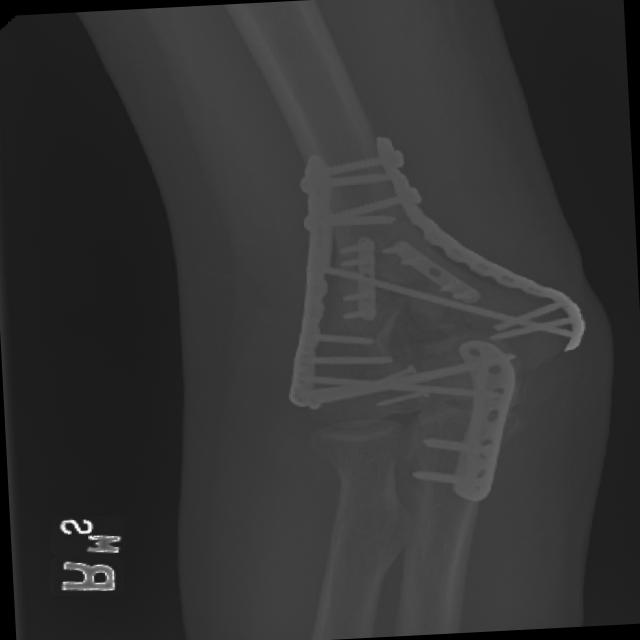elbow positive: (381, 287, 473, 354)
